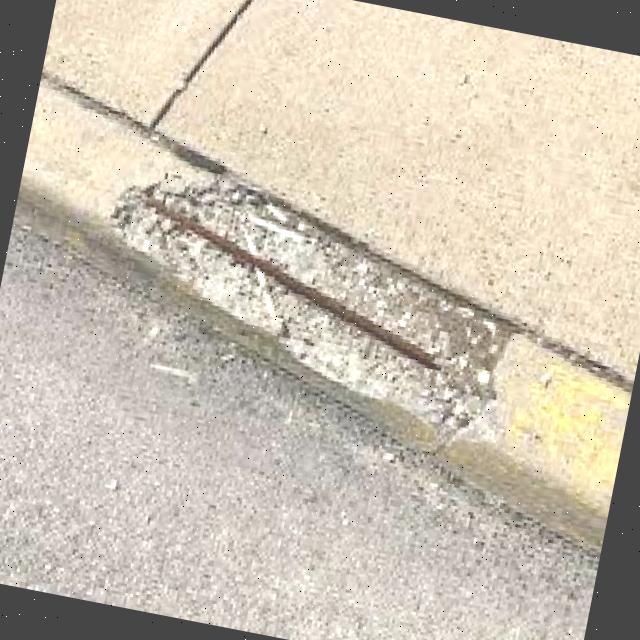curb: (1, 82, 640, 543)
